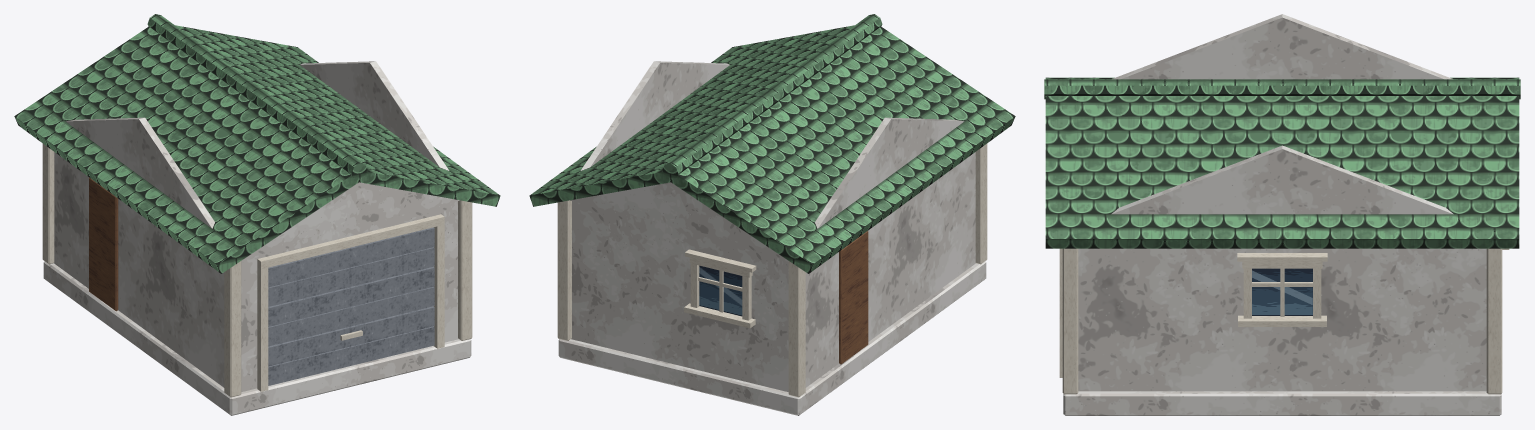
File: garage.glb
3 renders of one model, left to right at view 1: azimuth 30°, elevation 25°; view 2: azimuth 150°, elevation 25°; view 3: azimuth 270°, elevation 25°, orthographic. The views are drawn at different scales.
Parts seen in each view (by area): view 1: Garage; view 2: Garage; view 3: Garage.
Part boxes in pixels (left/top/right/bottom): Garage: left=14, top=14, right=500, bottom=415; Garage: left=529, top=14, right=1015, bottom=415; Garage: left=1044, top=14, right=1520, bottom=415.
Size of the model in its own units: 5.4 by 4.19 by 6.74.
Materials: 4 (4 with a texture image).
